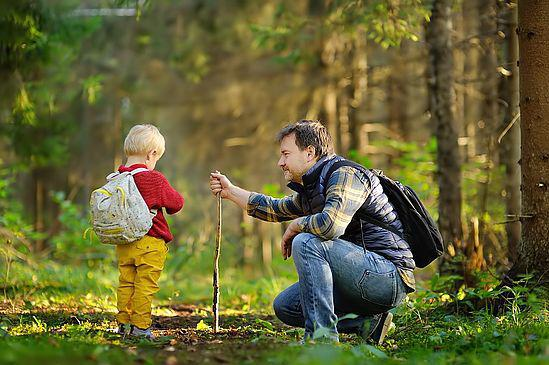child: (91, 123, 186, 344)
